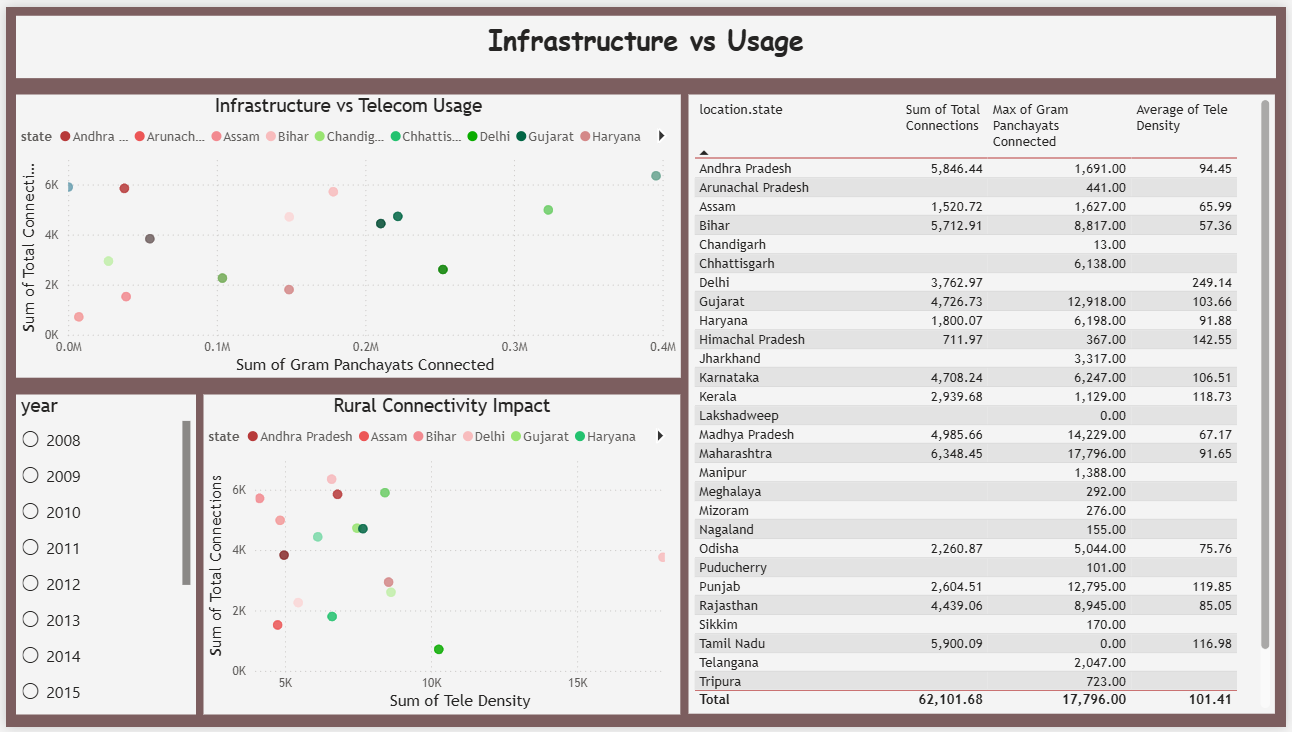

This screenshot's page, from the dashboard's own definition file:
{"tool":"powerbi","page":{"name":"Infrastructure vs Usage","canvas":[1280,720],"ordinal":2},"visuals":[{"type":"textbox","box":[10,8.8,1260,62.5],"z":0},{"type":"scatterChart","title":"Rural Connectivity Impact","fields":{"Y":["Sum(telecom_dw fact_telecom_infra.Total Connections)"],"X":["Sum(telecom_dw fact_telecom_infra.Tele Density)"],"Series":["telecom_dw fact_telecom_infra.telecom_dw.dim_location.state"]},"box":[197.9,387.3,476.5,319.7],"z":1000},{"type":"scatterChart","title":"Infrastructure vs Telecom Usage","fields":{"Series":["telecom_dw dim_location.state"],"X":["Sum(telecom_dw fact_telecom_infra.Gram Panchayats Connected)"],"Y":["Sum(telecom_dw fact_telecom_infra.Total Connections)"]},"box":[9.7,88.1,664.7,283.5],"z":2000},{"type":"tableEx","fields":{"Values":["telecom_dw fact_telecom_infra.telecom_dw.dim_location.state","Sum(telecom_dw fact_telecom_infra.Total Connections)","Max(telecom_dw fact_telecom_infra.Gram Panchayats Connected)","Avg(telecom_dw fact_telecom_infra.Tele Density)"]},"box":[682.8,88.1,586.3,618.9],"z":3000},{"type":"listSlicer","fields":{"Values":["telecom_dw fact_telecom_infra.telecom_dw dim_time.year"]},"box":[9.7,387.3,179.8,319.7],"z":4000}]}

Visuals, with their boxes in screenshot pixels (x1, y1, x2, y2), scaled from the page's 1280x720 canvas onto the 1292x732 screenshot:
textbox: x1=10 y1=9 x2=1282 y2=72
"Rural Connectivity Impact" scatterChart: x1=200 y1=394 x2=681 y2=719
"Infrastructure vs Telecom Usage" scatterChart: x1=10 y1=90 x2=681 y2=378
tableEx - telecom_dw fact_telecom_infra.telecom_dw.dim_location.state x Sum(telecom_dw fact_telecom_infra.Total Connections): x1=689 y1=90 x2=1281 y2=719
listSlicer - telecom_dw fact_telecom_infra.telecom_dw dim_time.year: x1=10 y1=394 x2=191 y2=719
